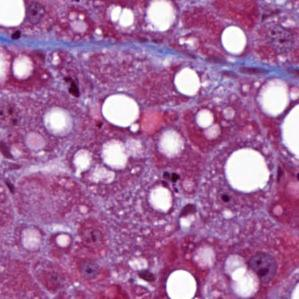inflammation: (58, 75, 85, 99), (160, 169, 185, 192)
